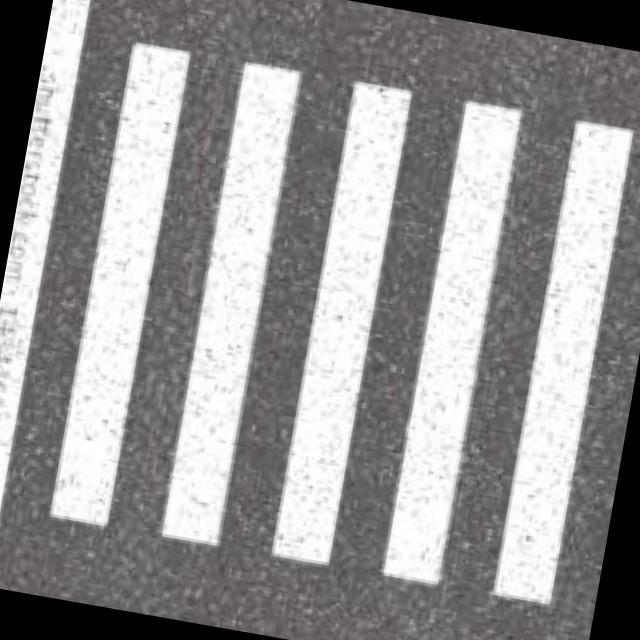zebra: (46, 36, 638, 611)
